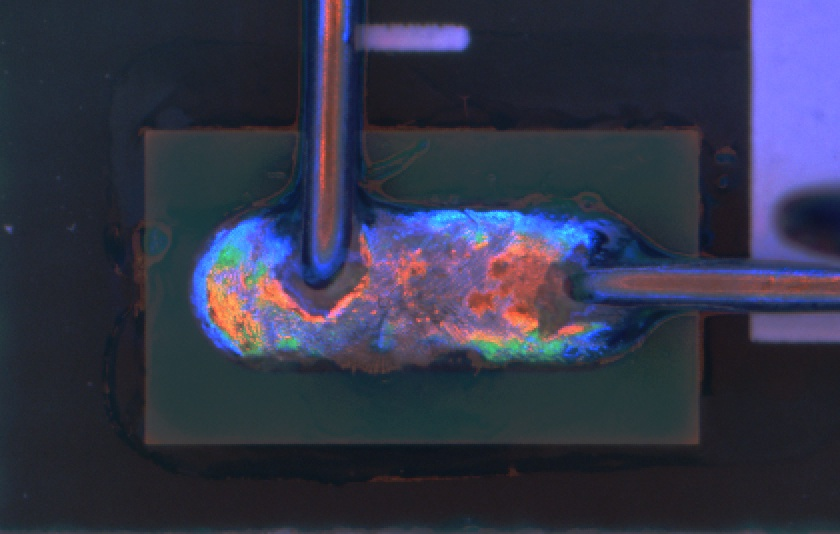spring: (294, 1, 358, 292), (558, 253, 839, 313)
spring_pin: (198, 204, 636, 361)
